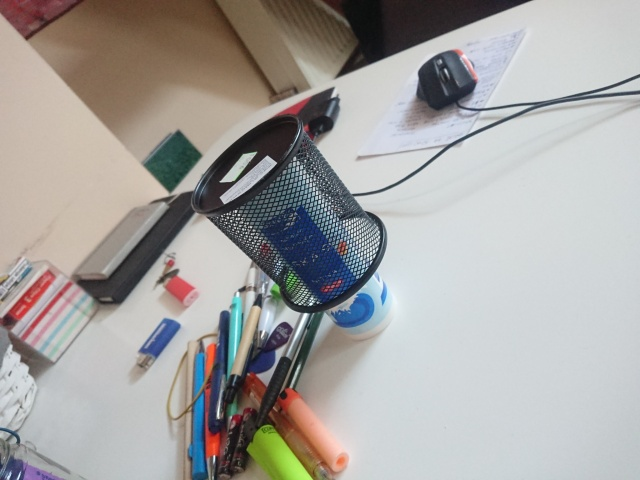Solana Pag Fine Sea Salt 250g: (226, 143, 398, 343)
